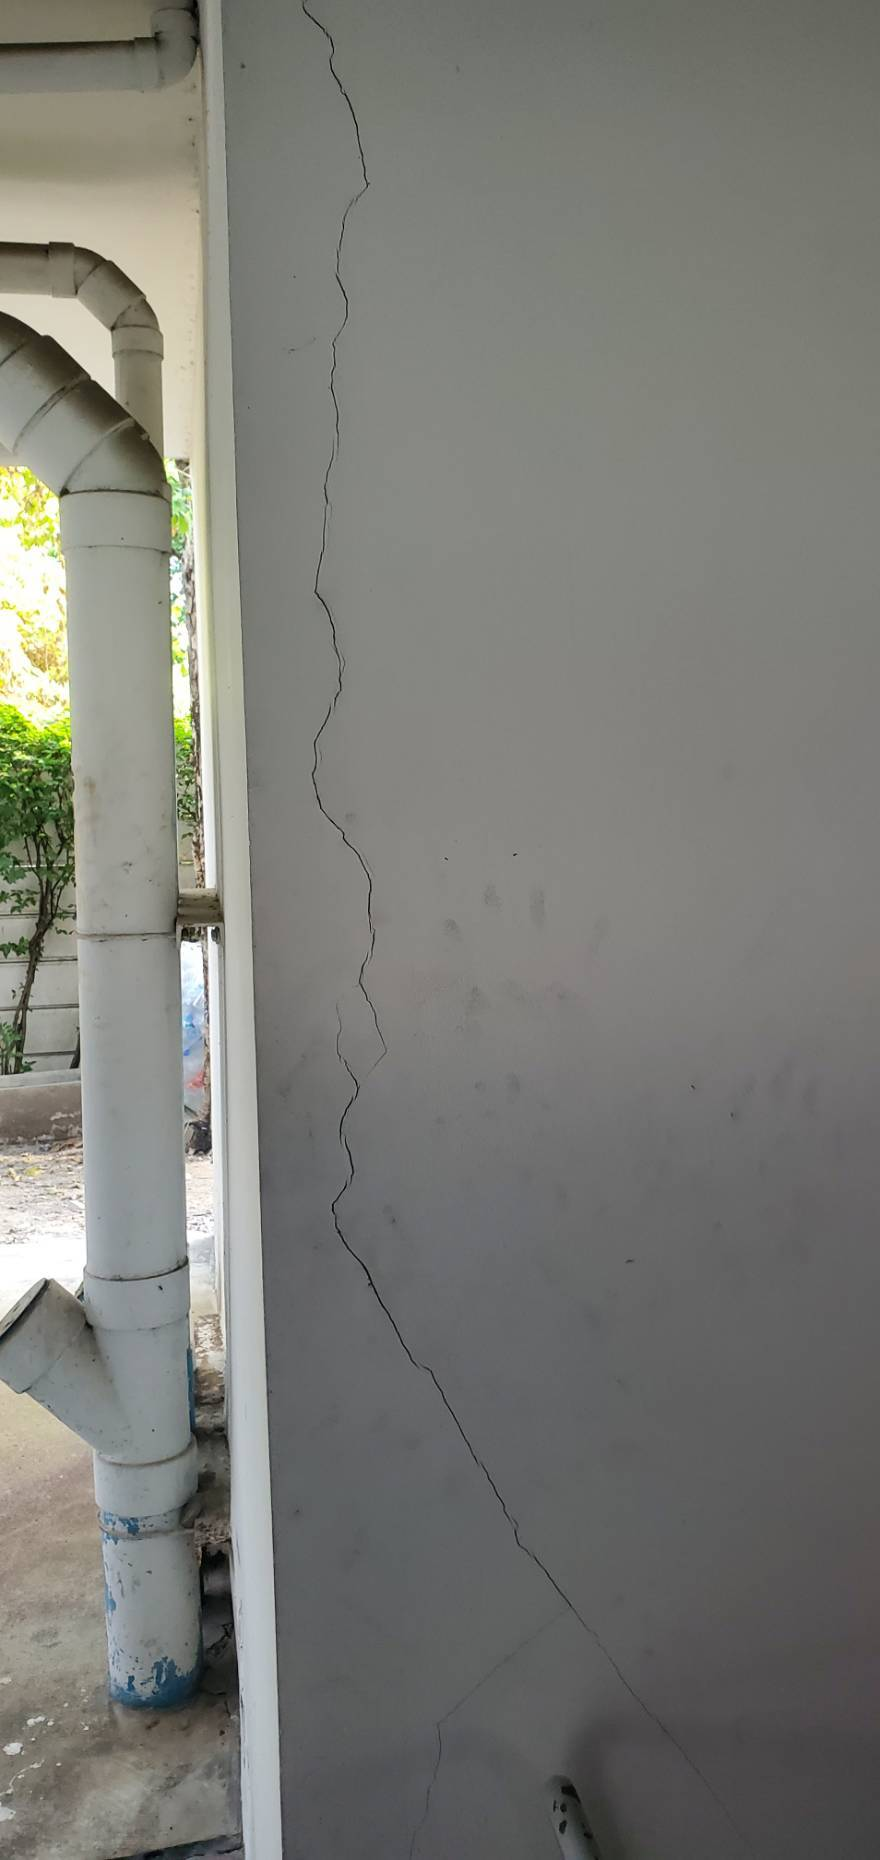Low: (251, 1, 708, 1753)
